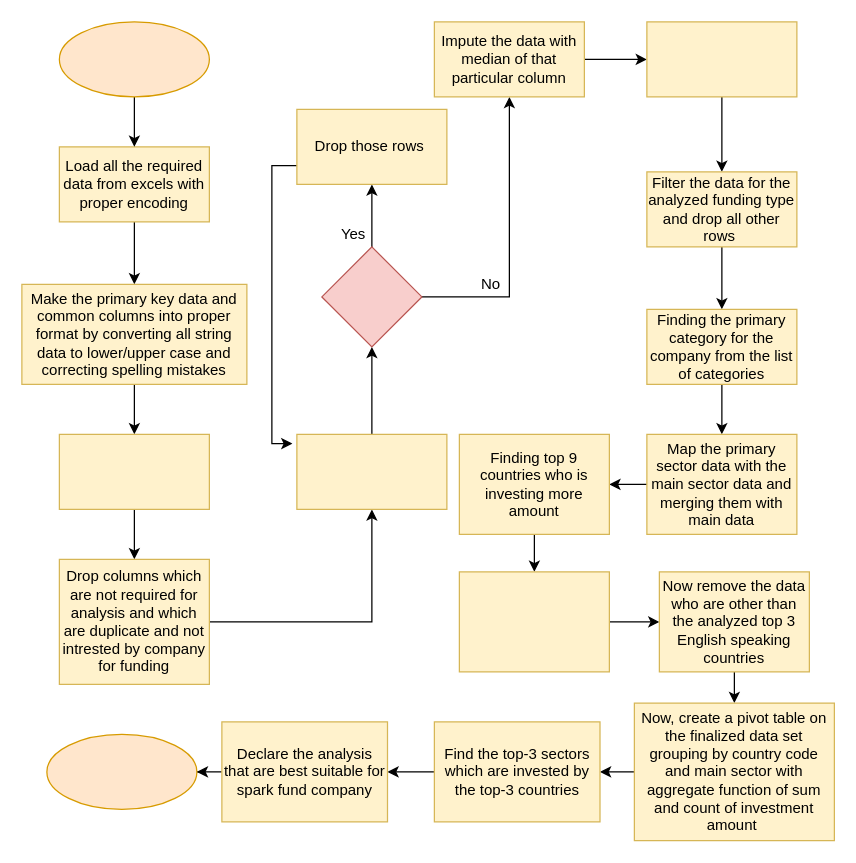
This 856x863 diagram has some shape labels left out. The shapes that lost their labels are listed below. From the top down, each one's centre as x and y in pixels, then its label:
point (133, 59): Start of analysis
point (721, 59): Finding the best funding type based on the amount of investment
point (371, 296): null % is >35
point (133, 471): Merge the data sets on common column for companies and the funding types
point (371, 471): Find % of nulls in dataset
point (533, 621): Segregating the top 3 countries who are English speaking from the above top 9
point (121, 771): End of analysis
